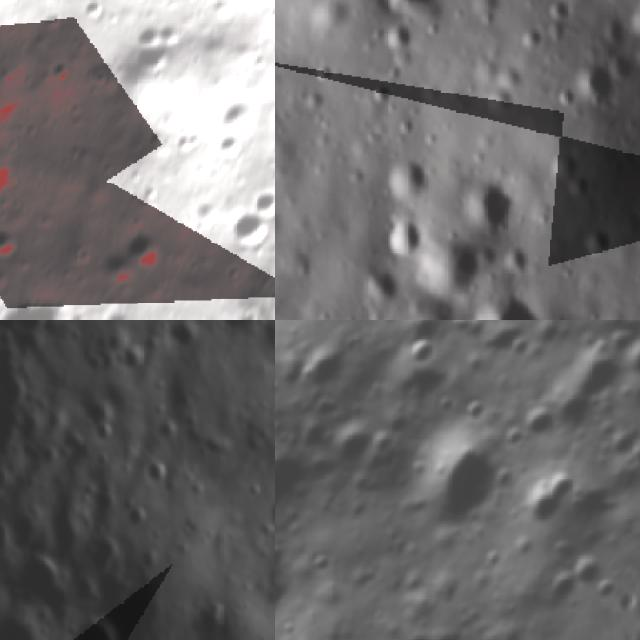crater: (394, 405, 533, 553), (104, 0, 205, 103), (275, 424, 336, 525), (0, 266, 109, 320), (420, 234, 496, 305), (204, 87, 275, 154), (503, 390, 570, 457), (214, 200, 275, 266), (84, 239, 148, 299), (13, 551, 78, 607), (458, 171, 516, 233), (112, 220, 172, 278), (391, 320, 450, 377), (564, 52, 624, 106), (461, 287, 558, 320), (378, 149, 432, 206), (0, 122, 29, 221), (210, 126, 256, 173), (380, 213, 426, 260), (239, 174, 275, 232), (358, 260, 405, 304), (0, 213, 34, 273), (67, 610, 127, 640), (377, 14, 414, 56), (0, 613, 50, 640), (200, 598, 234, 636), (136, 455, 172, 486), (162, 320, 197, 351), (0, 371, 28, 408), (97, 300, 145, 320), (91, 418, 118, 448), (152, 416, 180, 444), (7, 320, 50, 338), (125, 502, 152, 530), (118, 344, 146, 370), (623, 0, 640, 39), (222, 320, 271, 331), (0, 512, 12, 555), (240, 480, 264, 500), (0, 465, 9, 491)
